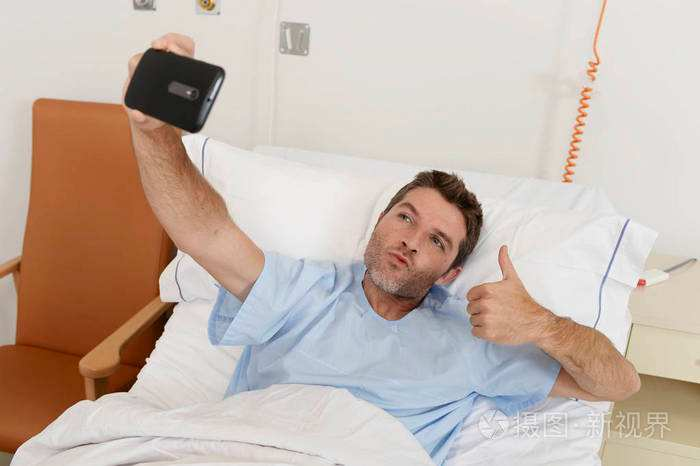no-phone: (464, 244, 544, 349)
taking photos: (117, 28, 229, 152)
